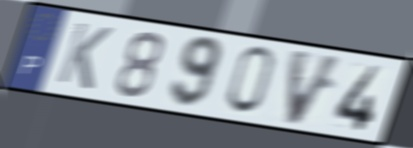0: (223, 44, 277, 117)
4: (330, 62, 382, 134)
8: (114, 29, 165, 100)
9: (167, 34, 223, 112)
K: (53, 19, 116, 93)
V: (283, 46, 348, 128)
